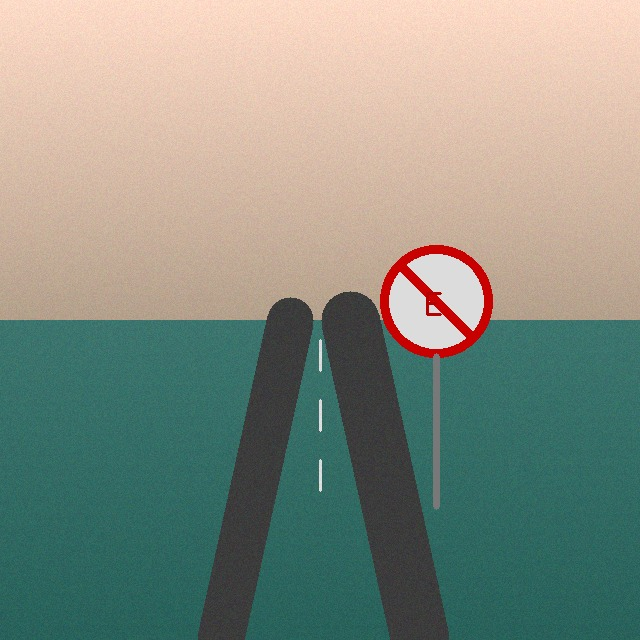no_estacionar: (382, 247, 491, 356)
